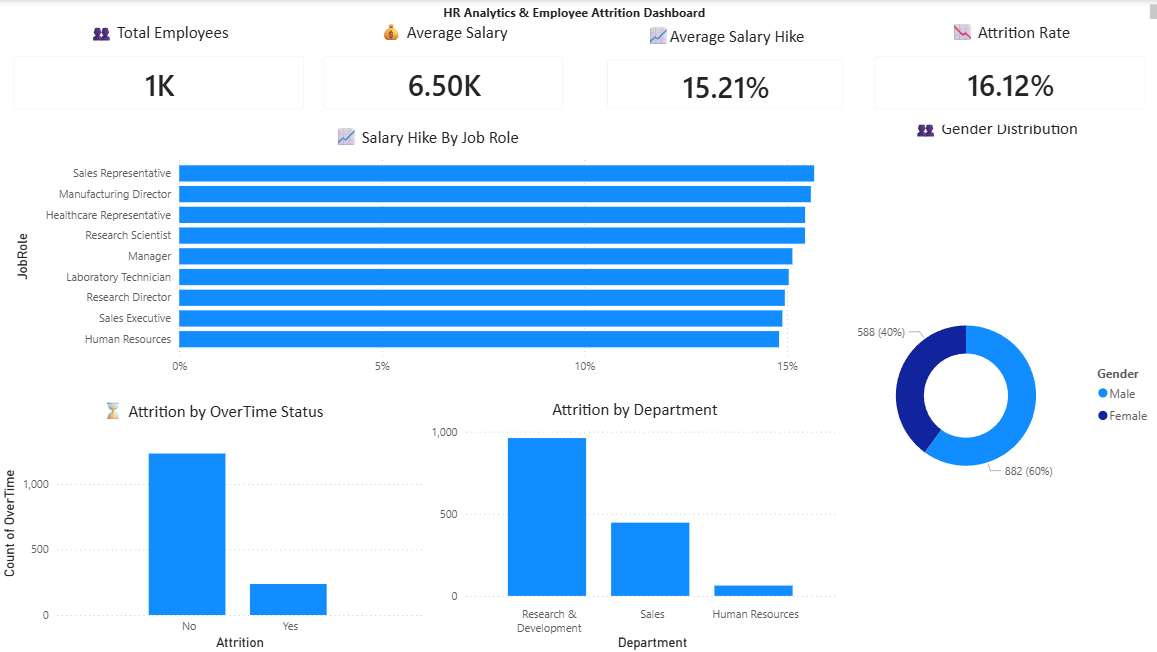

What the dashboard file says about the page in this screenshot:
{"tool":"powerbi","page":{"name":"Page 1","canvas":[1280,720],"ordinal":0},"visuals":[{"type":"donutChart","title":"👥 Gender Distribution","fields":{"Category":["WA_Fn-UseC_-HR-Employee-Attrition.Gender"],"Y":["Sum(WA_Fn-UseC_-HR-Employee-Attrition.EmployeeCount)"]},"box":[915.9,127.9,364.4,592.7],"z":0},{"type":"cardVisual","title":"👥 Total Employees","fields":{"Data":["WA_Fn-UseC_-HR-Employee-Attrition.total employess"]},"box":[0,22,354.8,115.5],"z":1000},{"type":"cardVisual","title":"💰 Average Salary","fields":{"Data":["WA_Fn-UseC_-HR-Employee-Attrition.avg salary"]},"box":[341,22,298.4,115.5],"z":2000},{"type":"columnChart","title":"Attrition by Department","fields":{"Y":["CountNonNull(WA_Fn-UseC_-HR-Employee-Attrition.Attrition)"],"Category":["WA_Fn-UseC_-HR-Employee-Attrition.Department"]},"box":[471.7,438.7,457.9,281.9],"z":3000},{"type":"columnChart","title":" ⌛ Attrition by OverTime Status","fields":{"Category":["WA_Fn-UseC_-HR-Employee-Attrition.Attrition"],"Y":["CountNonNull(WA_Fn-UseC_-HR-Employee-Attrition.OverTime)"]},"box":[0,438.7,471.7,281.9],"z":4000},{"type":"cardVisual","title":"📉 Attrition Rate","fields":{"Data":["WA_Fn-UseC_-HR-Employee-Attrition.attrition rate"]},"box":[947.5,22,332.8,115.5],"z":5000},{"type":"cardVisual","title":"📈Average Salary Hike ","fields":{"Data":["WA_Fn-UseC_-HR-Employee-Attrition.avg salary hike"]},"box":[653.2,26.1,294.3,111.4],"z":6000},{"type":"clusteredBarChart","title":"📈 Salary Hike By Job Role","fields":{"Category":["WA_Fn-UseC_-HR-Employee-Attrition.JobRole"],"Y":["WA_Fn-UseC_-HR-Employee-Attrition.avg salary hike"]},"box":[13.8,137.5,915.9,283.3],"z":7000},{"type":"textbox","box":[0,0,1280.3,26.1],"z":8000}]}

Visuals, with their boxes in screenshot pixels (x1, y1, x2, y2), scaled from the page's 1280x720 canvas onto the 1157x652 screenshot:
"👥 Gender Distribution" donutChart: 828, 116, 1156, 651
"👥 Total Employees" cardVisual: 0, 20, 321, 125
"💰 Average Salary" cardVisual: 308, 20, 578, 125
"Attrition by Department" columnChart: 426, 397, 840, 651
" ⌛ Attrition by OverTime Status" columnChart: 0, 397, 426, 651
"📉 Attrition Rate" cardVisual: 856, 20, 1156, 125
"📈Average Salary Hike " cardVisual: 590, 24, 856, 125
"📈 Salary Hike By Job Role" clusteredBarChart: 12, 125, 840, 381
textbox: 0, 0, 1156, 24
